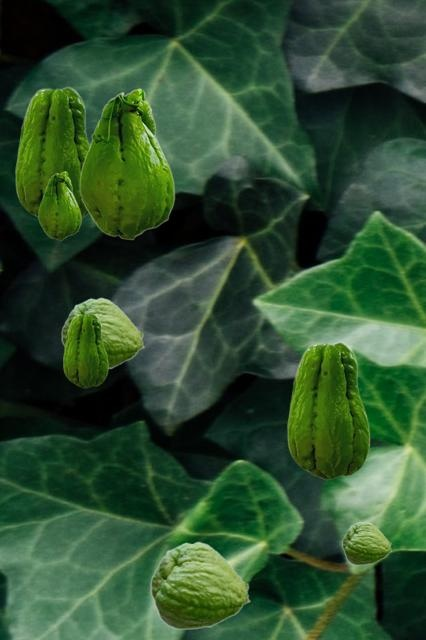sayote: (79, 88, 174, 239), (287, 341, 369, 479), (15, 86, 89, 219), (150, 541, 250, 629), (61, 297, 144, 369), (63, 313, 107, 387), (38, 171, 80, 239), (342, 521, 391, 564)
